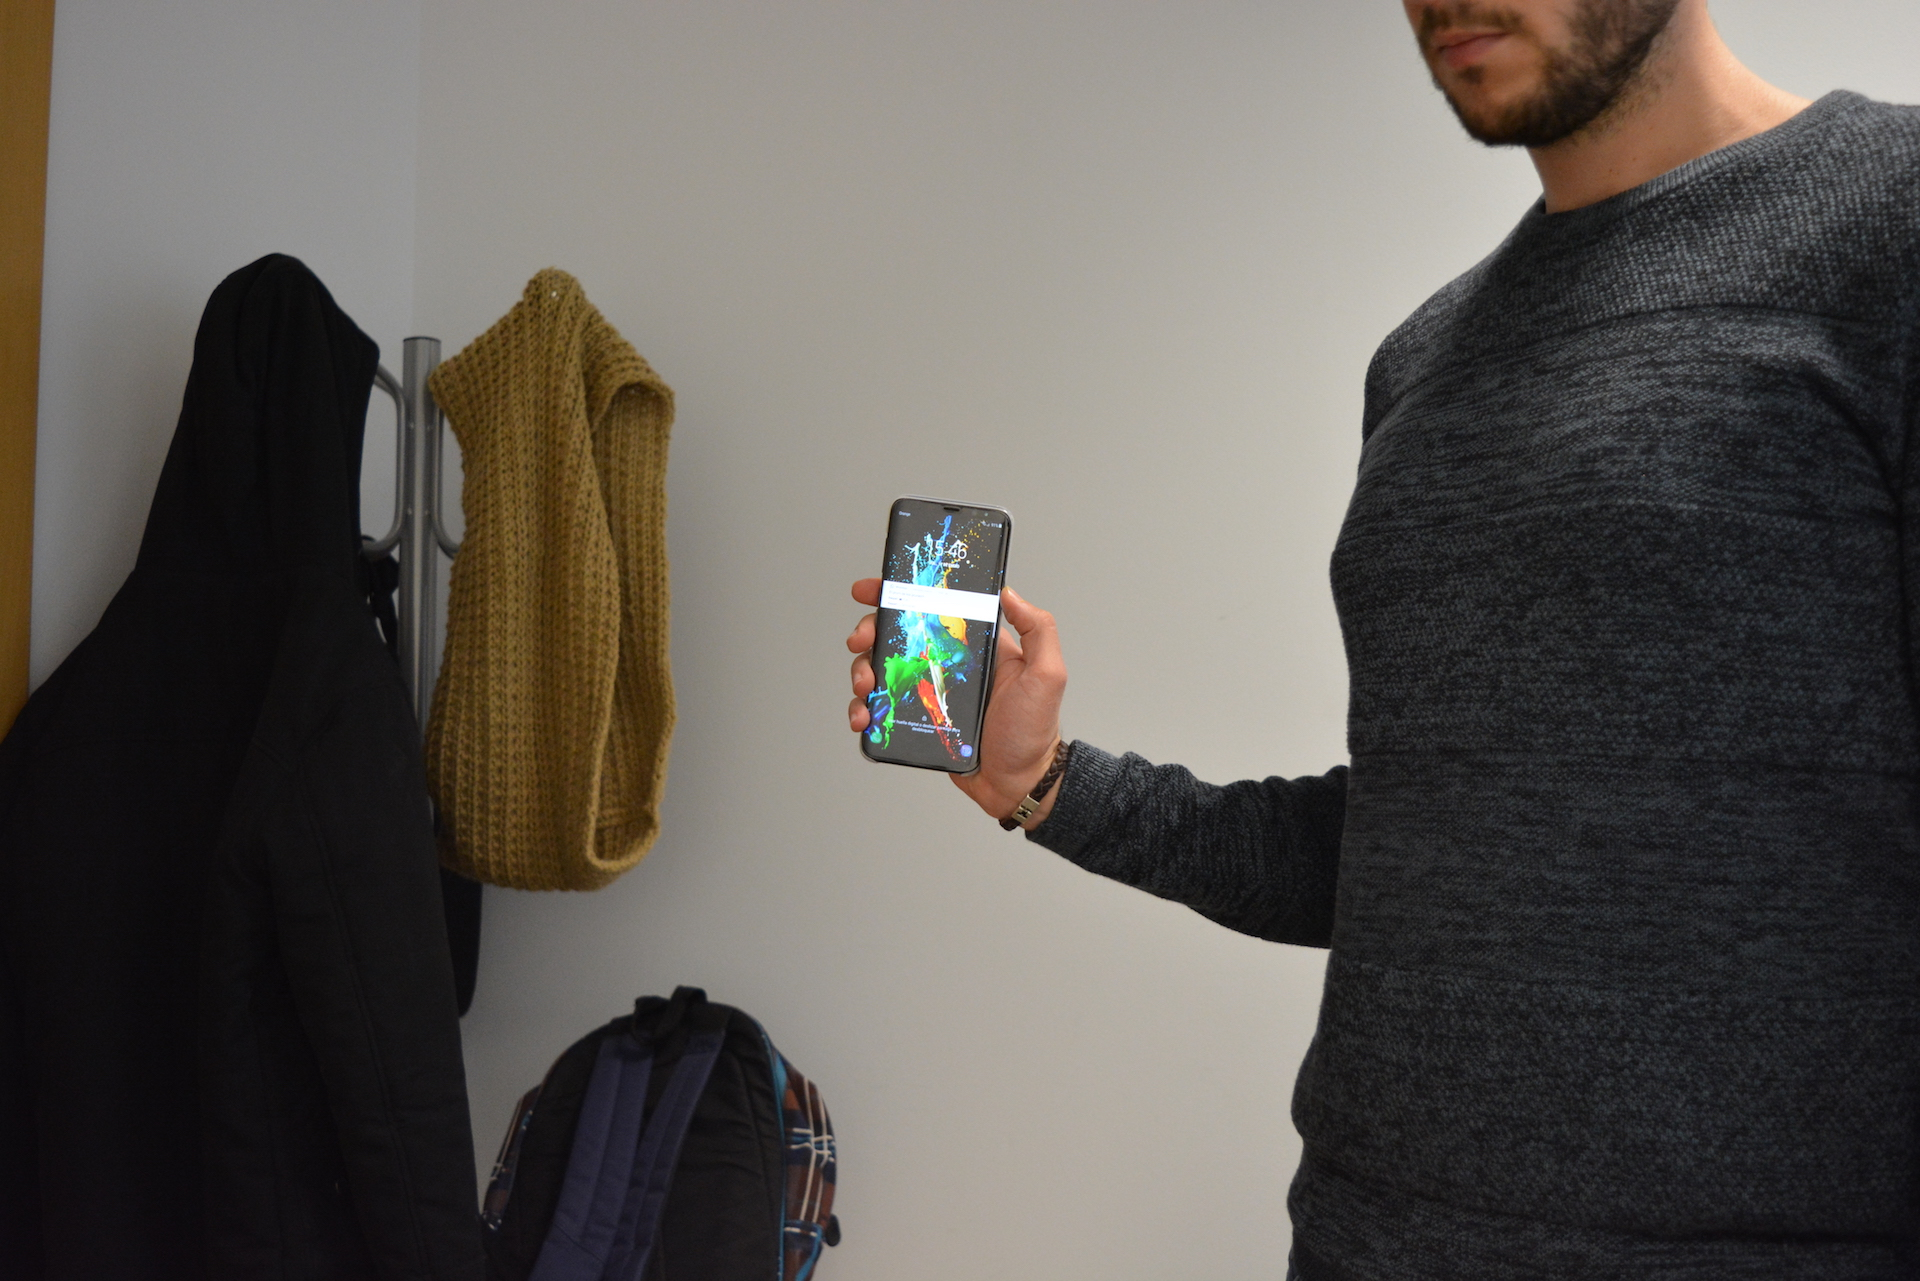smartphone: (858, 493, 1015, 778)
